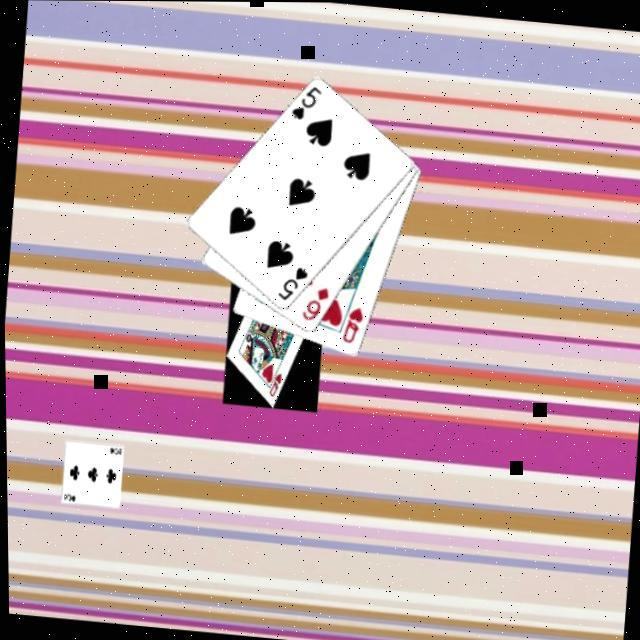5S: (284, 82, 322, 126), (271, 263, 309, 306)
6D: (294, 284, 330, 326)
QH: (335, 305, 364, 348)
